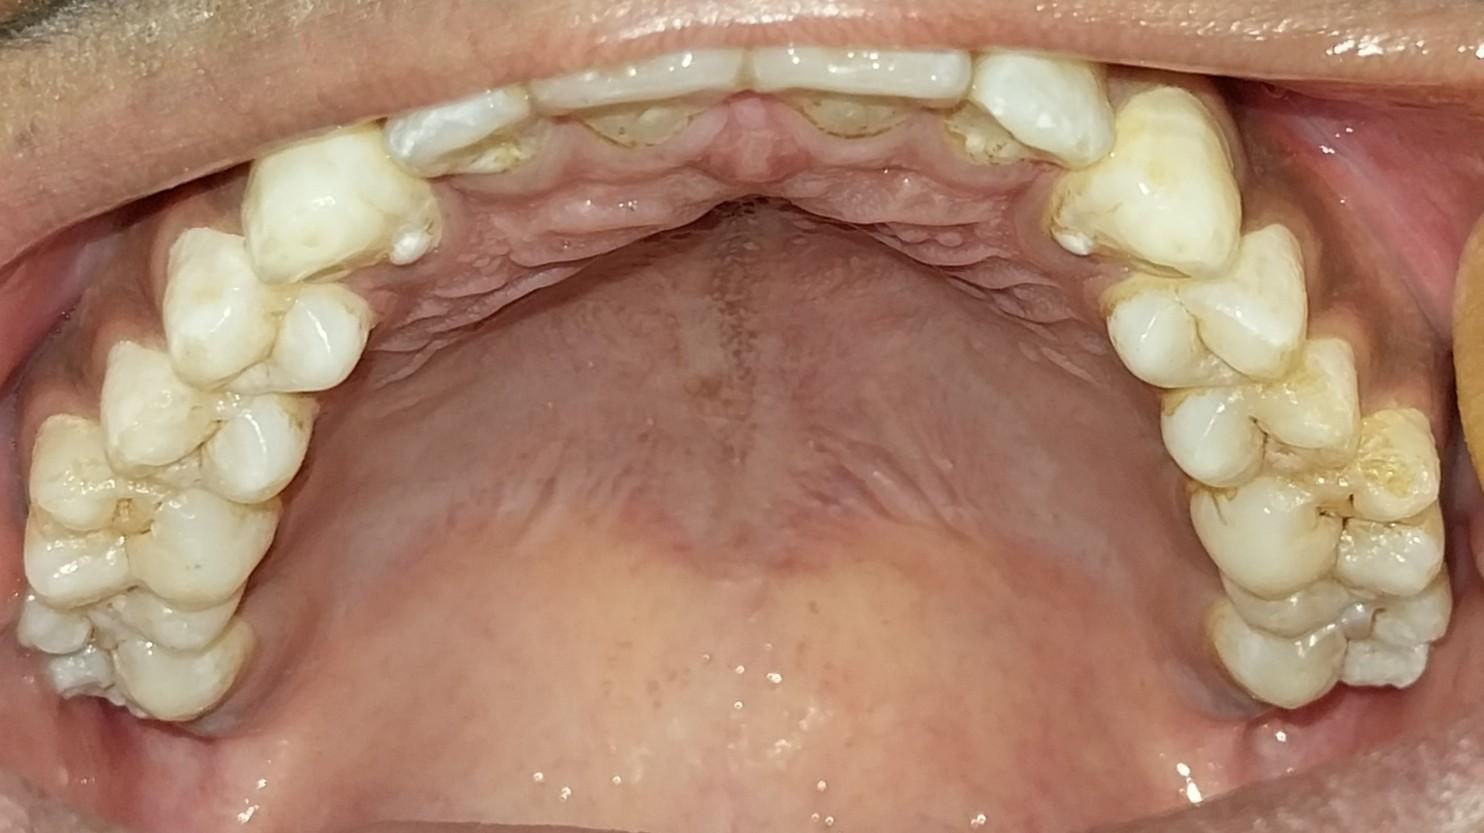D: (25, 410, 282, 656), (1190, 405, 1447, 634), (100, 347, 319, 506), (1207, 570, 1451, 712), (13, 585, 257, 723), (1161, 339, 1365, 478)
